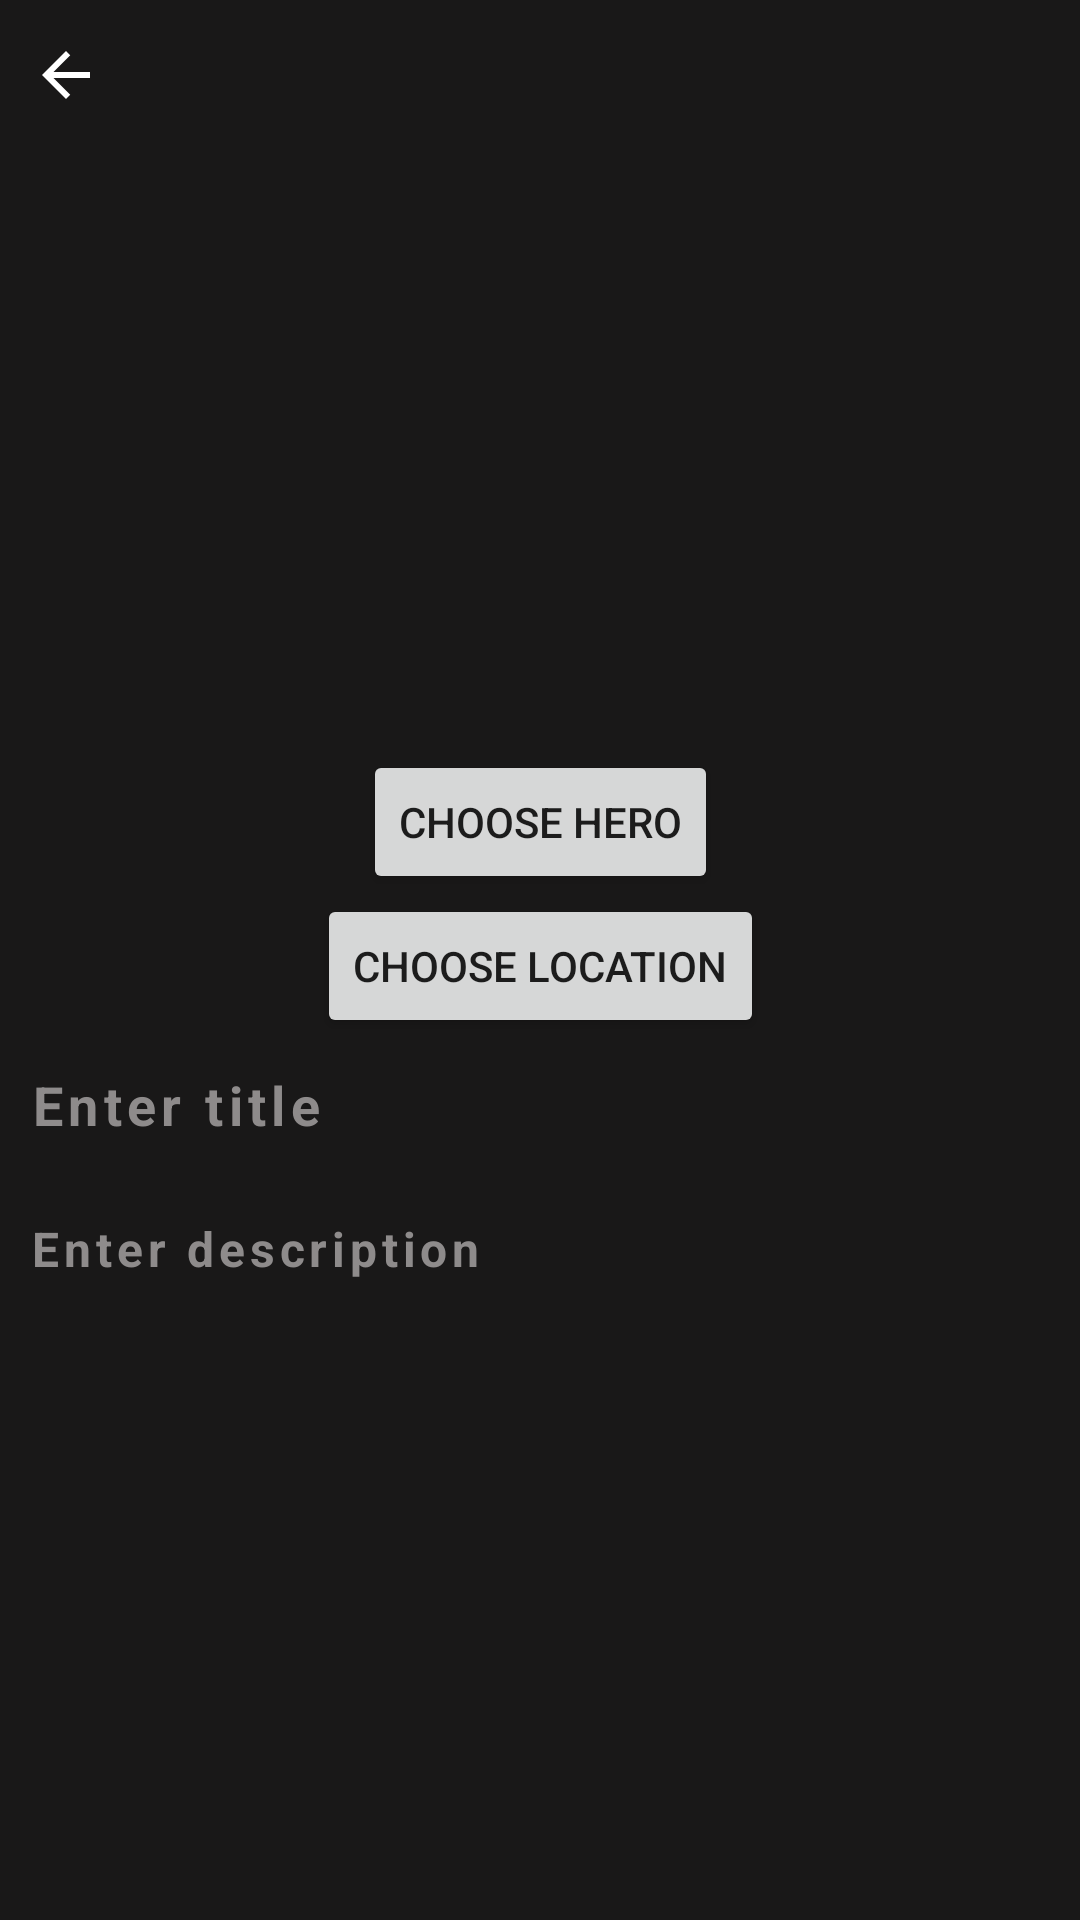

Screen size 1080px×1920px. Icon name, then its box in pixels as (x1, y1, x2, y2):
back: (42, 51, 90, 99)
